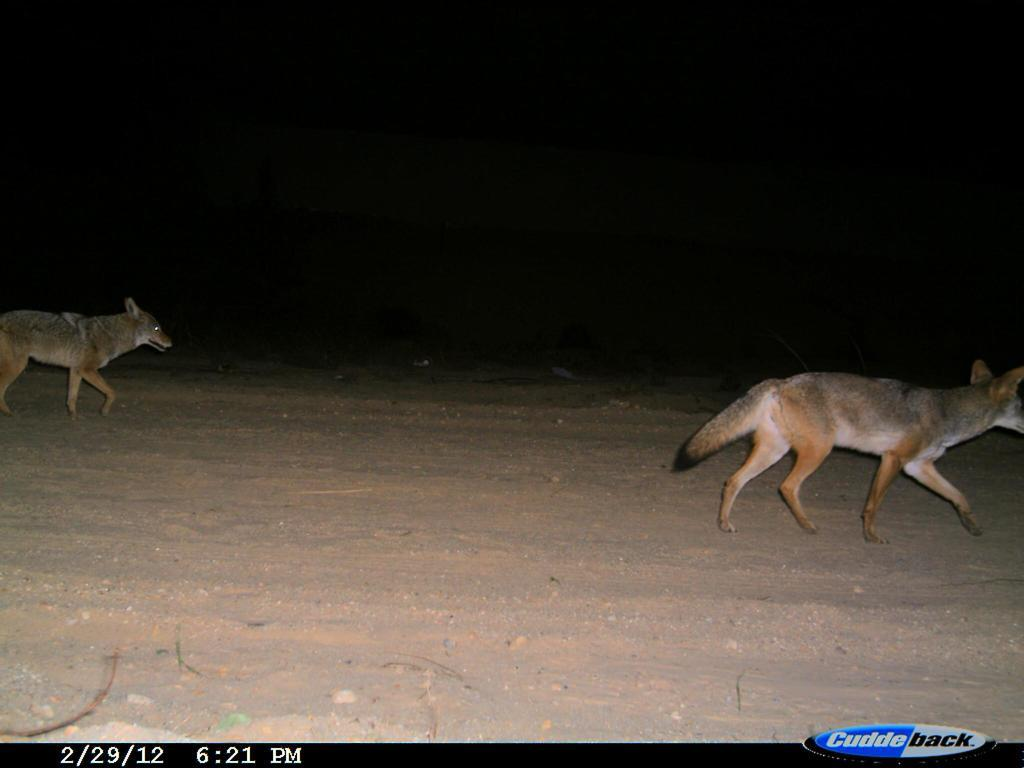coyote: (675, 353, 1022, 543), (1, 276, 201, 435)
